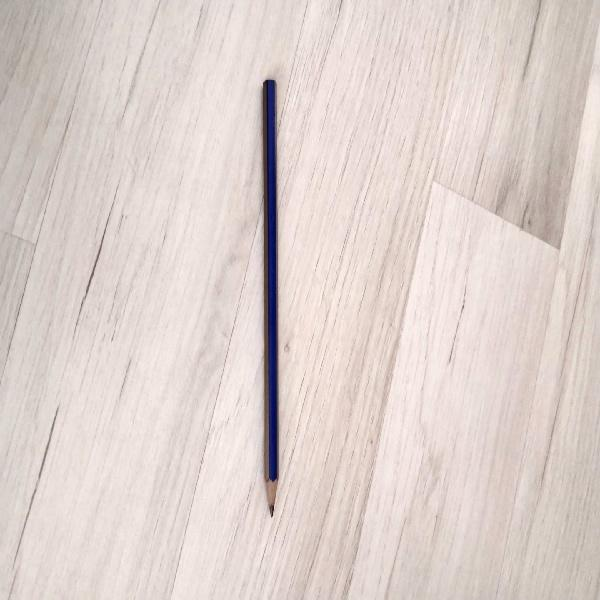pencil: (263, 79, 278, 516)
